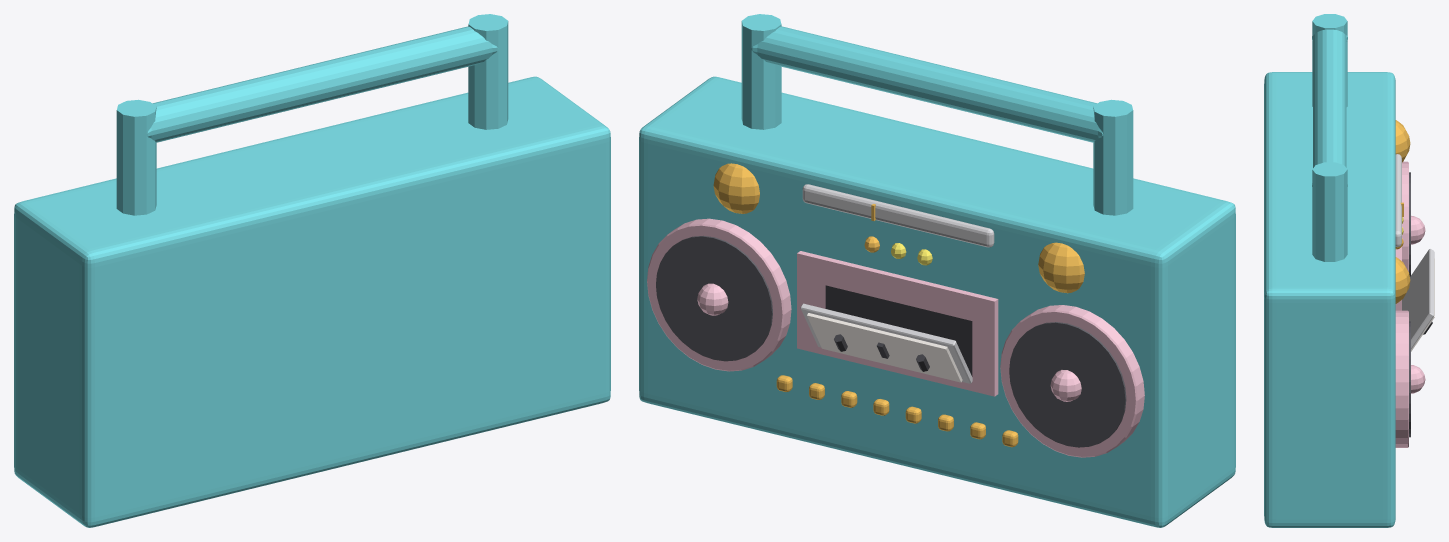
File: casOpened.glb
3 renders of one model, left to right at view 1: azimuth 30°, elevation 25°; view 2: azimuth 150°, elevation 25°; view 3: azimuth 270°, elevation 25°, orthographic. The views are drawn at different scales.
Parts seen in each view (by area): view 1: Body, HandleBar, HandleLegR; view 2: Body, SpeakerGrille_R, CassetteBay, HandleBar, SpeakerRing_R, HandleLegR, TapeBG, TunerBar, Knob_R, CassetteWindow, DustCap_R; view 3: Body, HandleBar, HandleLegR, SpeakerRing_R, CassetteWindow, Knob_R, DustCap_R, TunerBar, SpeakerGrille_R.
Boxes of the visible parts, x1,y1,x2,y2 form: Body: (14,76,610,527); HandleBar: (146,26,498,142); HandleLegR: (116,14,508,215); Body: (639,76,1235,527); SpeakerGrille_R: (656,235,1126,447); CassetteBay: (797,251,998,396); HandleBar: (751,26,1103,142); SpeakerRing_R: (647,218,1144,457); HandleLegR: (741,14,1133,215); TapeBG: (807,313,962,382); TunerBar: (802,184,994,247); Knob_R: (713,163,1084,293); CassetteWindow: (800,303,972,383); DustCap_R: (697,283,1081,401); Body: (1264,72,1395,527); HandleBar: (1312,29,1347,186); HandleLegR: (1312,14,1347,261); SpeakerRing_R: (1395,161,1408,447); CassetteWindow: (1402,249,1434,349); Knob_R: (1395,120,1410,303); DustCap_R: (1411,215,1425,393); TunerBar: (1395,154,1401,247); SpeakerGrille_R: (1409,172,1410,437).
Size of the model in its own units: 4.42 by 3 by 1.43.
